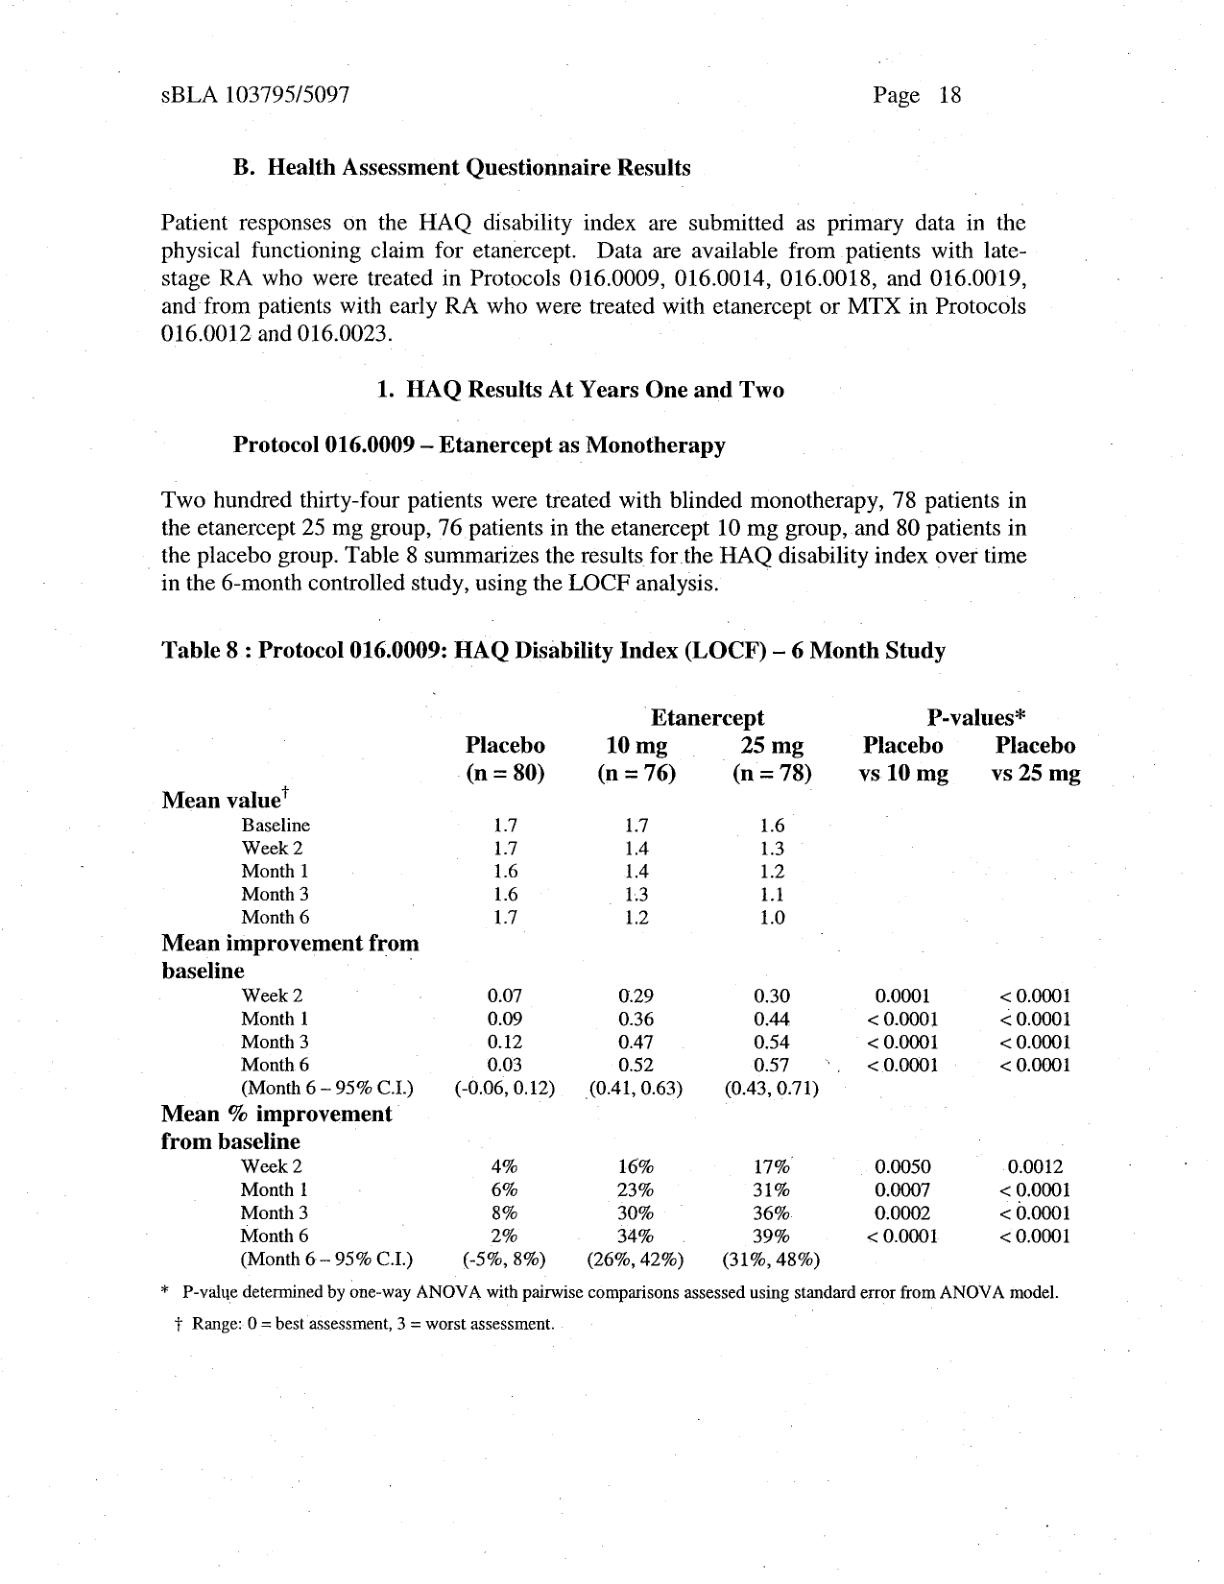nolines: (157, 701, 1083, 1270)
